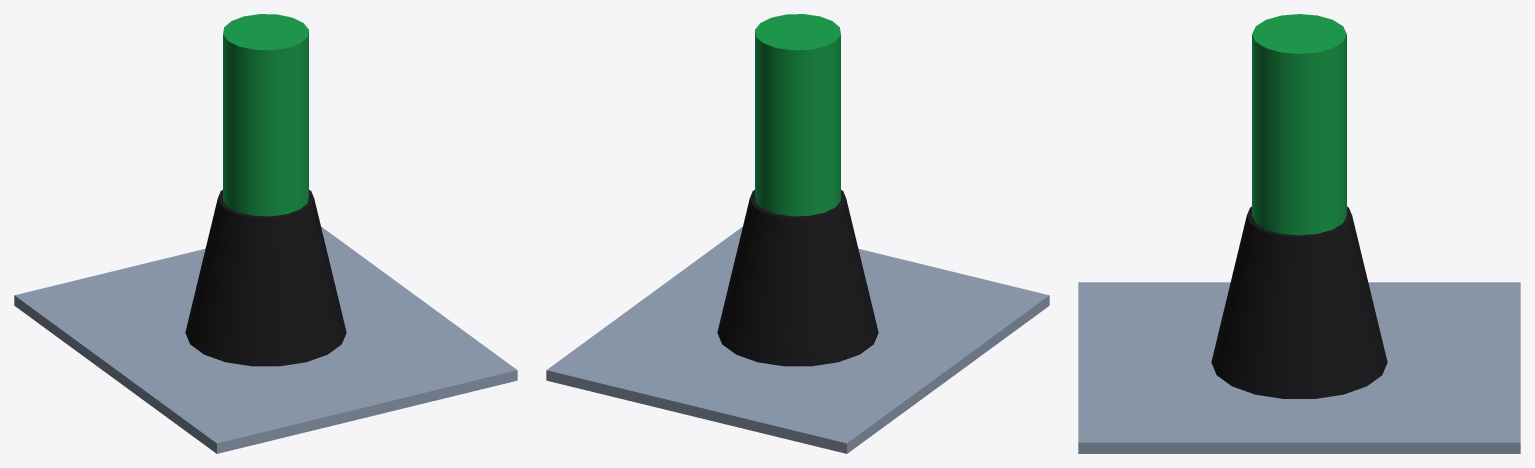
The model's file is fitting-roof-vent-flashing.glb.
The picture shows the model from 3 angles, left to right: view 1: azimuth 30°, elevation 25°; view 2: azimuth 150°, elevation 25°; view 3: azimuth 270°, elevation 25°; orthographic projection. The views are drawn at different scales.
Parts seen in each view (by area): view 1: plumbing-fitting-roof-vent-flashing; view 2: plumbing-fitting-roof-vent-flashing; view 3: plumbing-fitting-roof-vent-flashing.
Part boxes in pixels (x1,y1,x2,y2): plumbing-fitting-roof-vent-flashing: [14, 14, 517, 453]; plumbing-fitting-roof-vent-flashing: [546, 14, 1049, 453]; plumbing-fitting-roof-vent-flashing: [1078, 14, 1520, 453].
Size of the model in its own units: 0.36 by 0.356 by 0.42.
